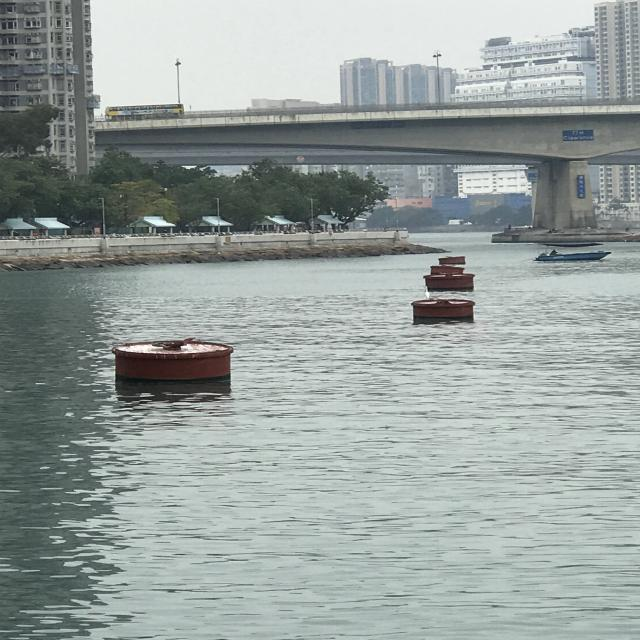ship: (530, 244, 616, 264)
